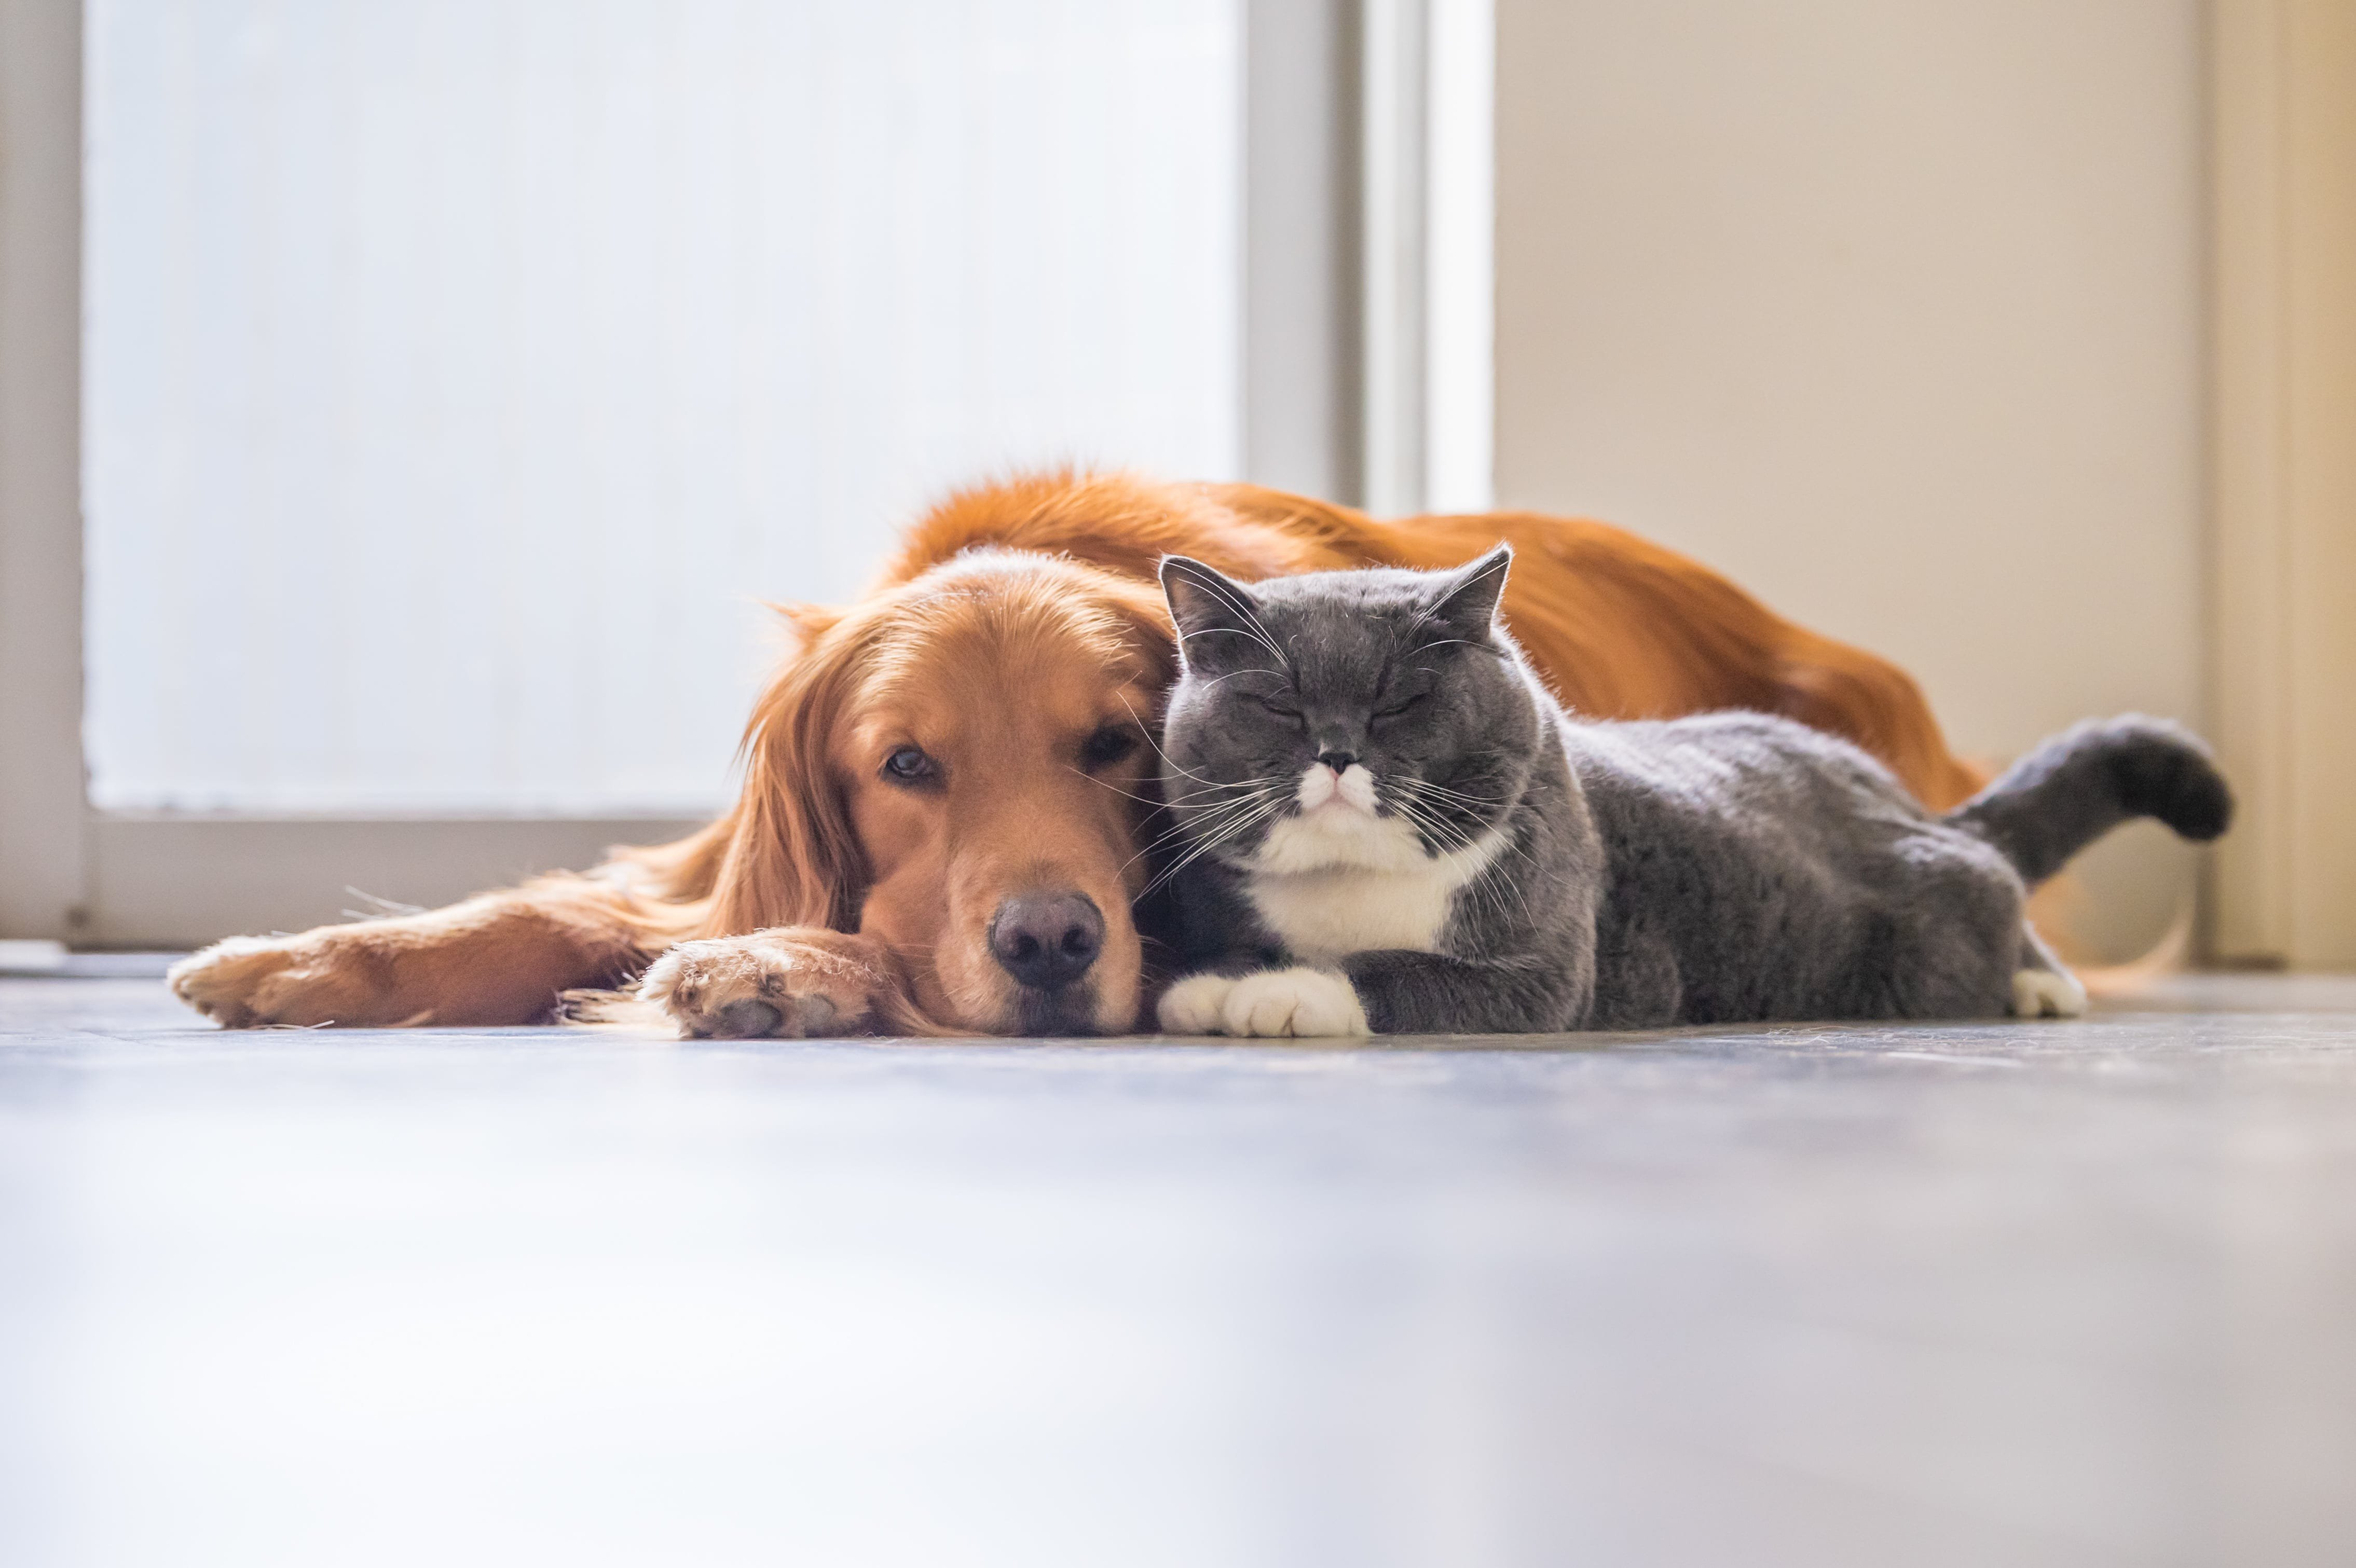cat: (1145, 518, 2295, 1101)
dog: (229, 371, 1521, 1094)
